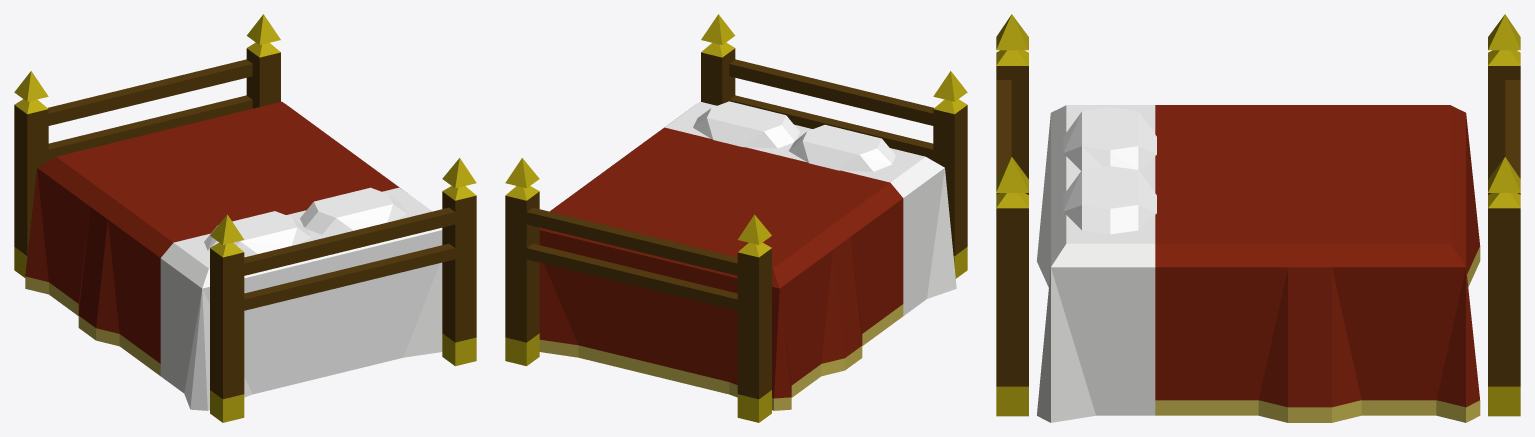
File: obj_bed_9_0.obj
3 renders of one model, left to right at view 1: azimuth 30°, elevation 25°; view 2: azimuth 150°, elevation 25°; view 3: azimuth 270°, elevation 25°, orthographic. The views are drawn at different scales.
Bounding box in the file's own units: 2 × 1.4 × 2.62.
